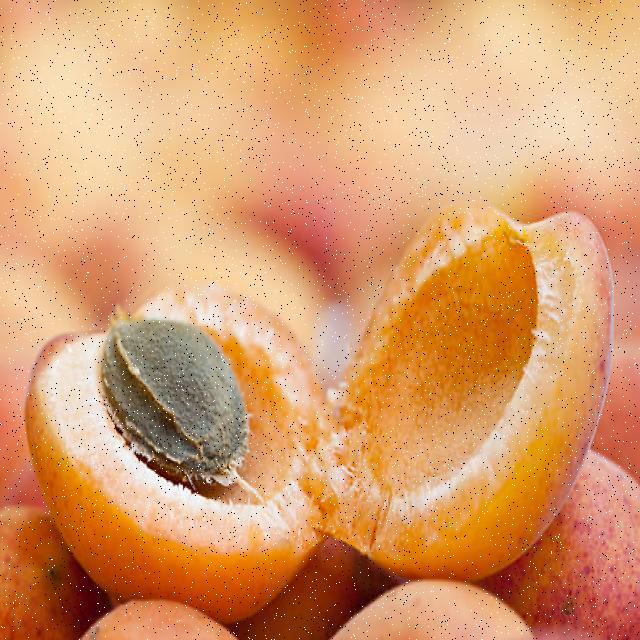cekirdek: (102, 319, 243, 476)
kayisi: (306, 201, 629, 600), (38, 277, 312, 614)
